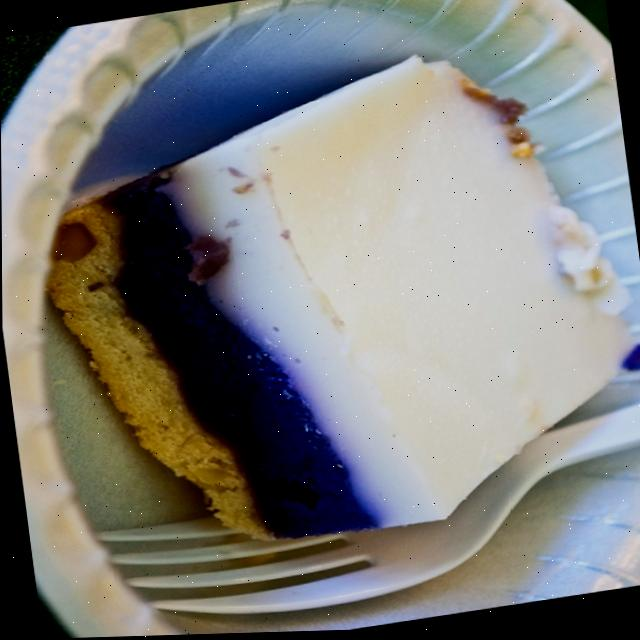蛋糕甜品: (0, 15, 640, 615)
